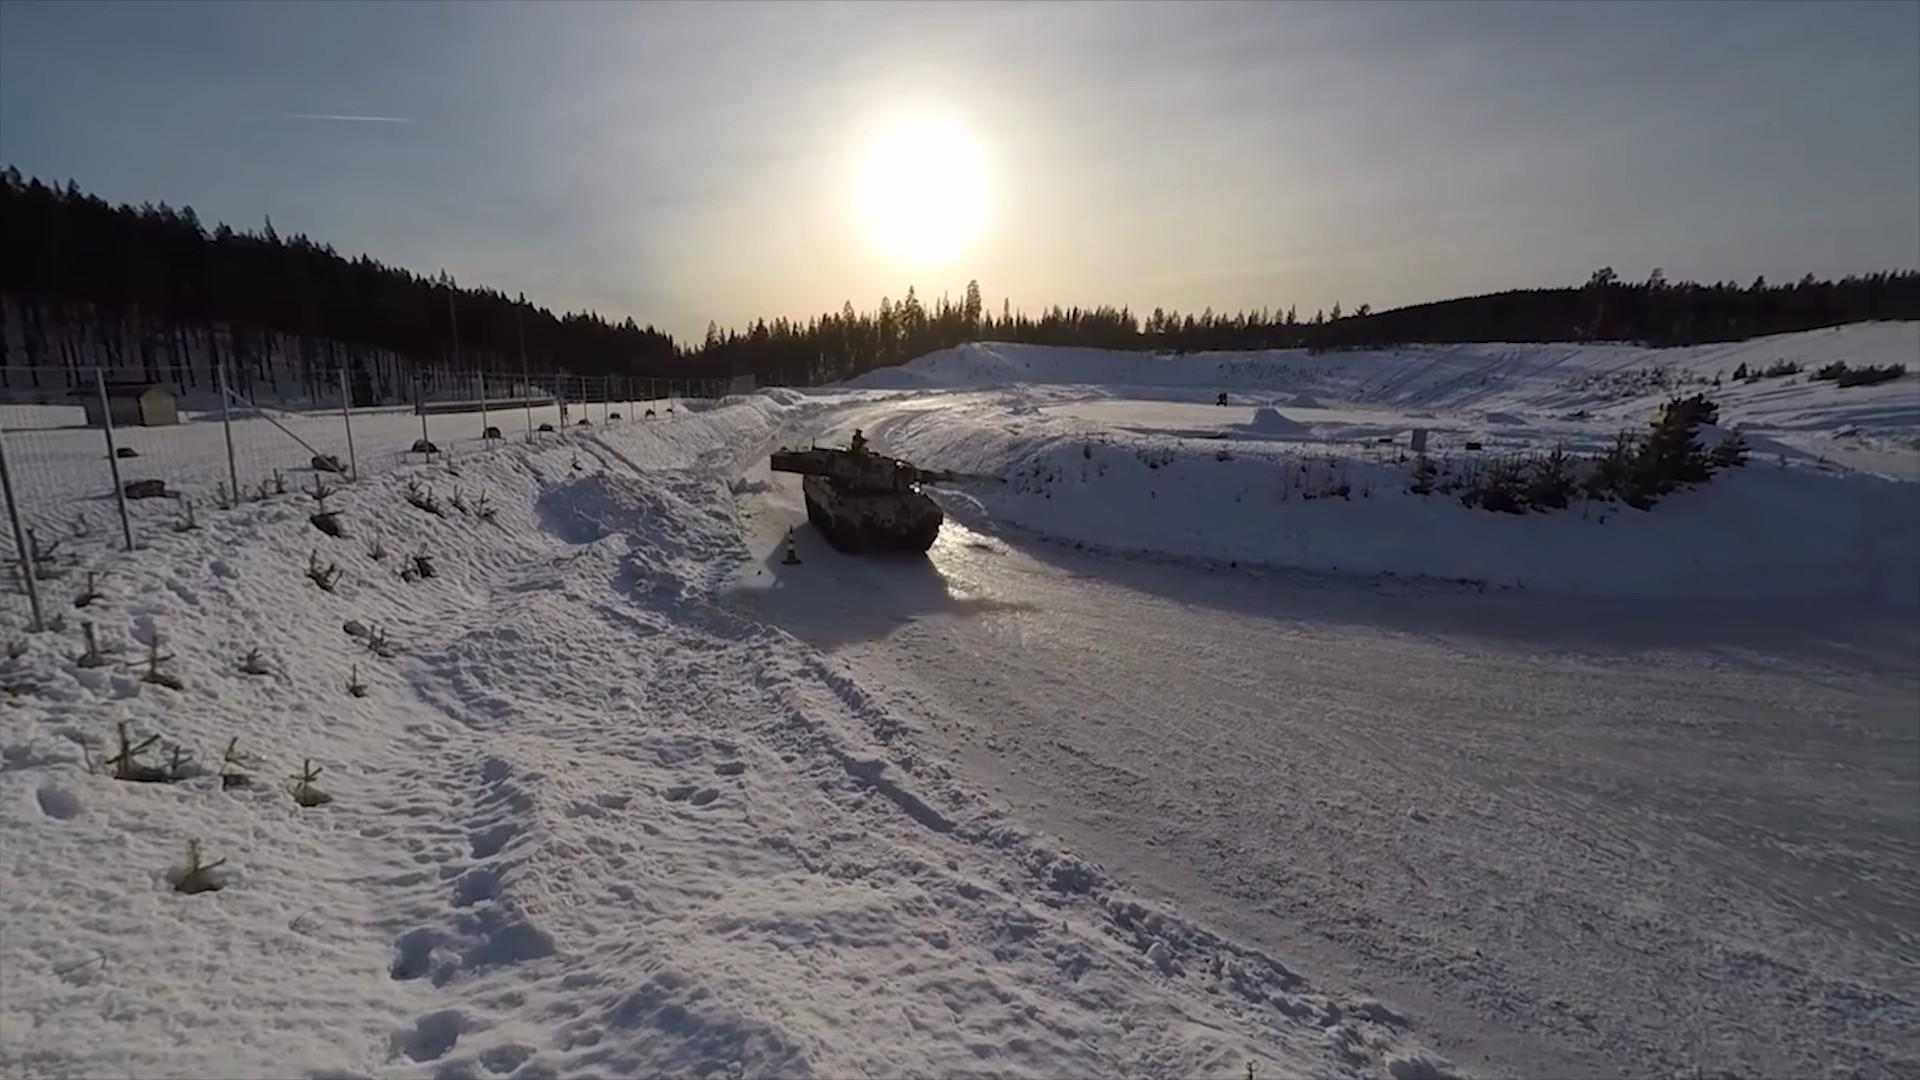tank: (770, 446, 1006, 550)
